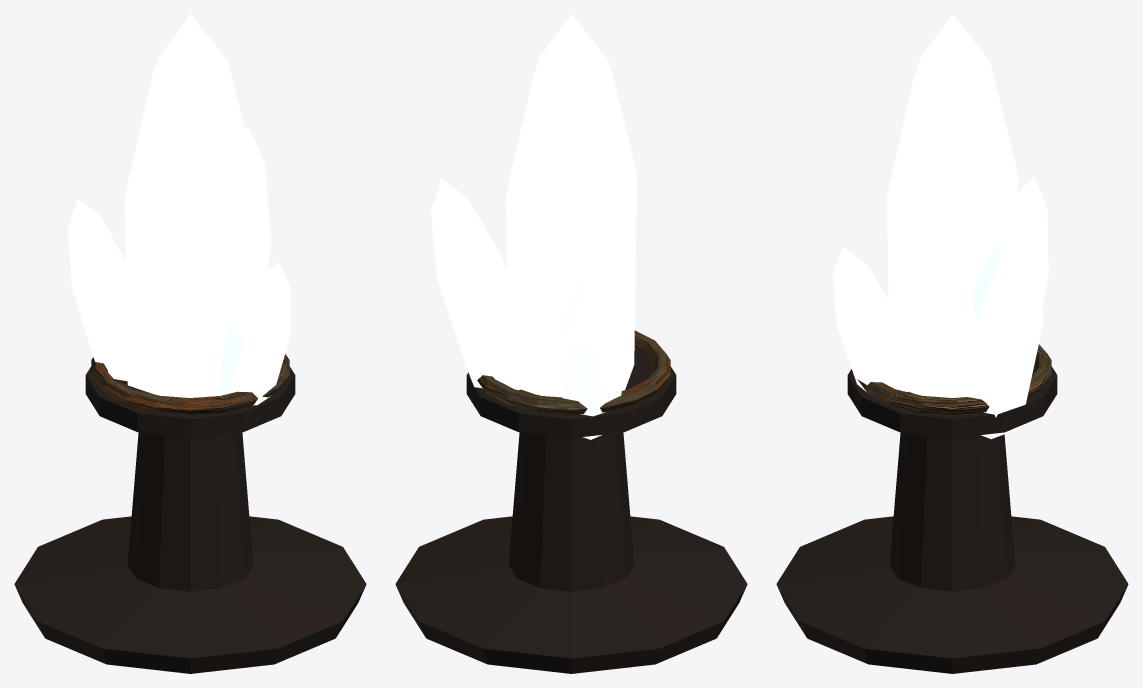
The model's file is light-crystal-v01-photo.glb.
3 renders of one model, left to right at view 1: azimuth 30°, elevation 25°; view 2: azimuth 150°, elevation 25°; view 3: azimuth 270°, elevation 25°, orthographic.
Visible parts, largest first — view 1: light-crystal; view 2: light-crystal; view 3: light-crystal.
Part boxes in pixels (<box>): light-crystal: <box>14,14,366,673</box>; light-crystal: <box>395,14,747,673</box>; light-crystal: <box>776,14,1128,673</box>.
Size of the model in its own units: 0.84 by 1.55 by 0.84.
Materials: 3 (2 with a texture image).
